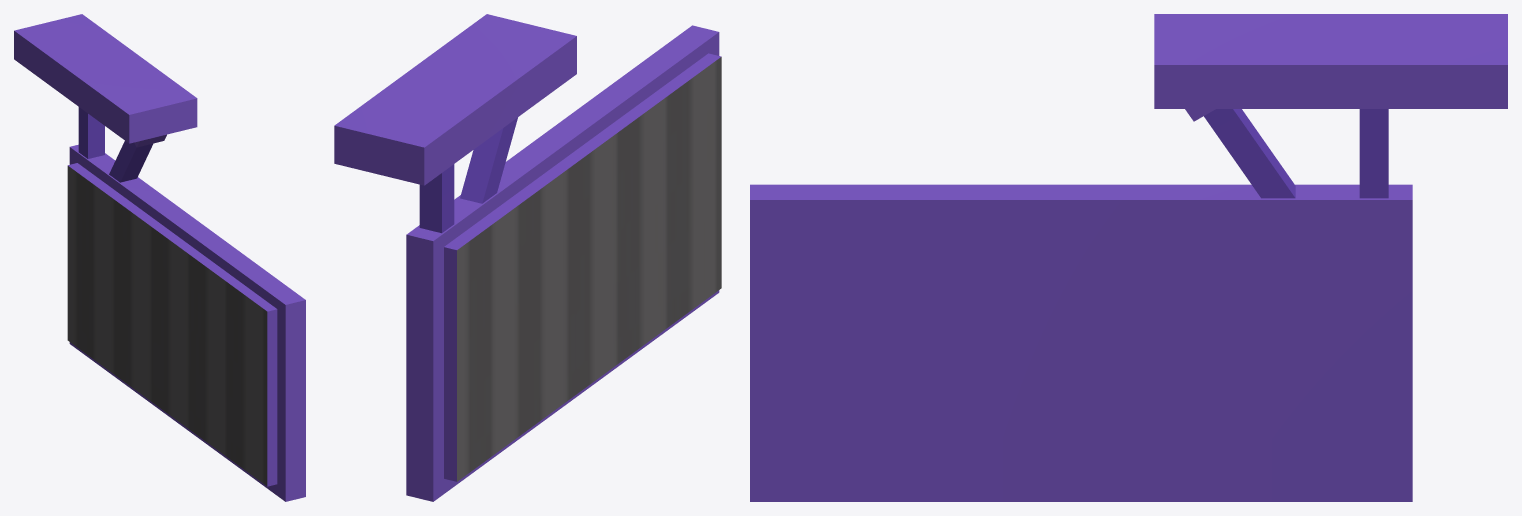
The model's file is SignProp_1_C_1.fbx.
3 renders of one model, left to right at view 1: azimuth 30°, elevation 25°; view 2: azimuth 150°, elevation 25°; view 3: azimuth 270°, elevation 25°, orthographic. The views are drawn at different scales.
Parts seen in each view (by area): view 1: SignProp_1_C_1; view 2: SignProp_1_C_1; view 3: SignProp_1_C_1.
Part boxes in pixels (left/top/right/bottom): SignProp_1_C_1: left=14, top=14, right=305, bottom=501; SignProp_1_C_1: left=334, top=14, right=721, bottom=501; SignProp_1_C_1: left=750, top=14, right=1507, bottom=501.
Size of the model in its own units: 20.79 by 86.49 by 131.
